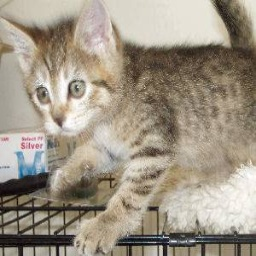cat: (1, 14, 256, 251)
